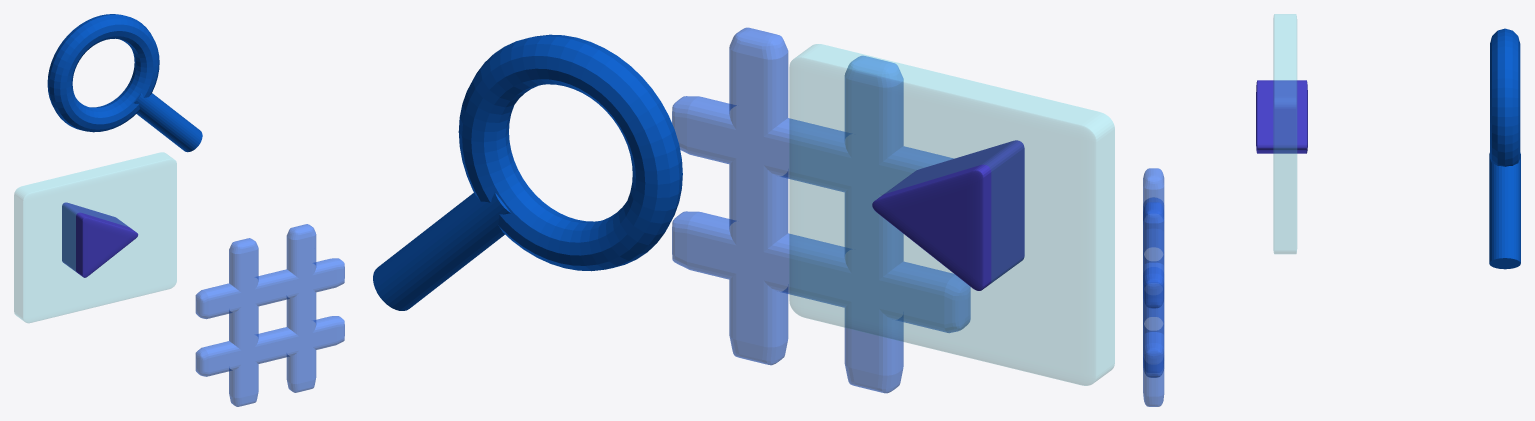
Rendered from work.glb.
3 views of the same model, side by side, from view 1: azimuth 30°, elevation 25°; view 2: azimuth 150°, elevation 25°; view 3: azimuth 270°, elevation 25° (orthographic). The views are drawn at different scales.
Bounding box in the file's own units: 2.66 × 2.61 × 2.65.
